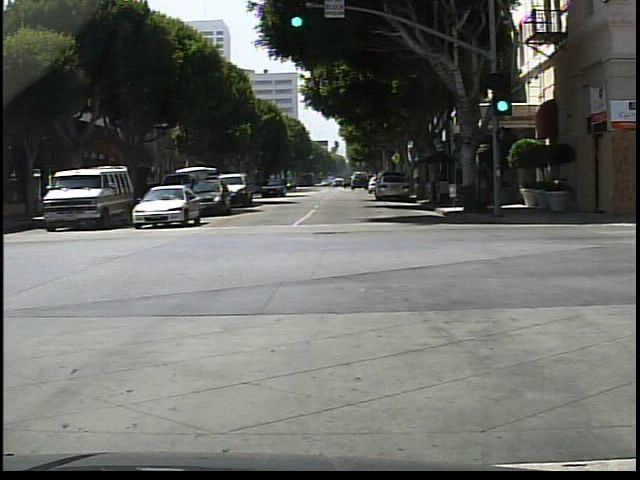person: (479, 160, 490, 212), (427, 165, 441, 205)
